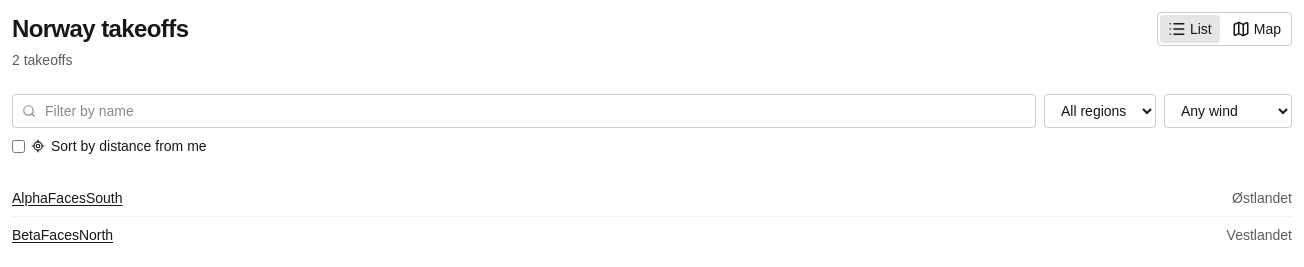
Test: TakeoffDirectory — wind filter › names both the region and the wind direction when their combination has zero results
Check: the link "AlphaFacesSouth" is shown, box [12, 188, 122, 208]
Select "Vestlandet" in the dropdown named "region" at (1100, 111), box [1044, 94, 1156, 128]
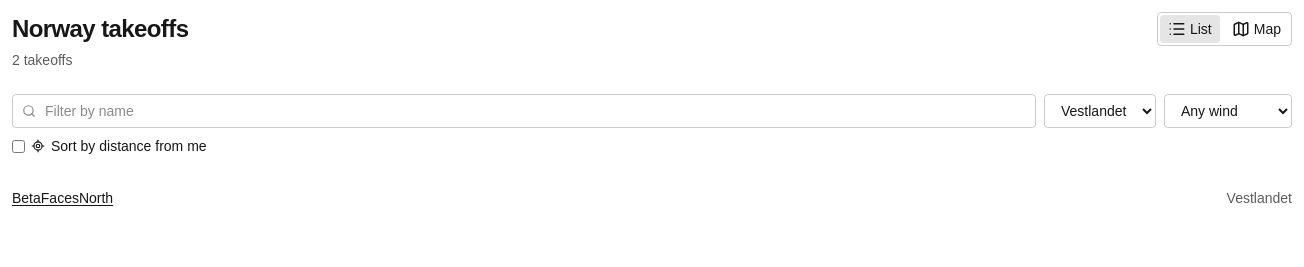
Select "Works in S" in the dropdown named "wind direction" at (1228, 111), box [1164, 94, 1292, 128]
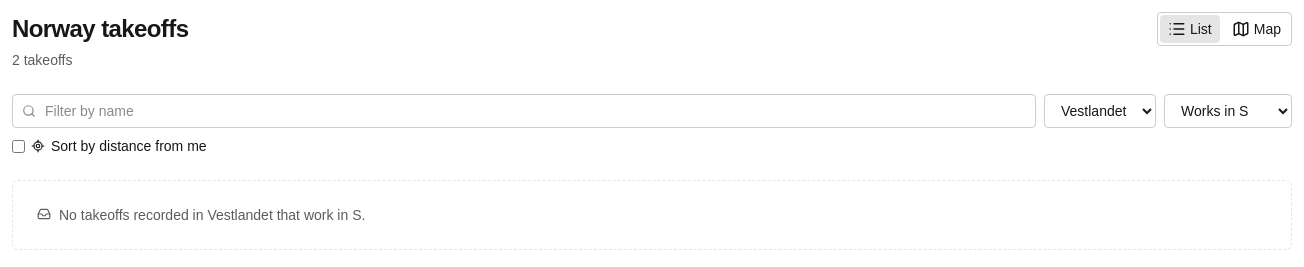
Check: the text "No takeoffs recorded in Vestlandet that work in S." is shown, box [59, 205, 365, 225]
